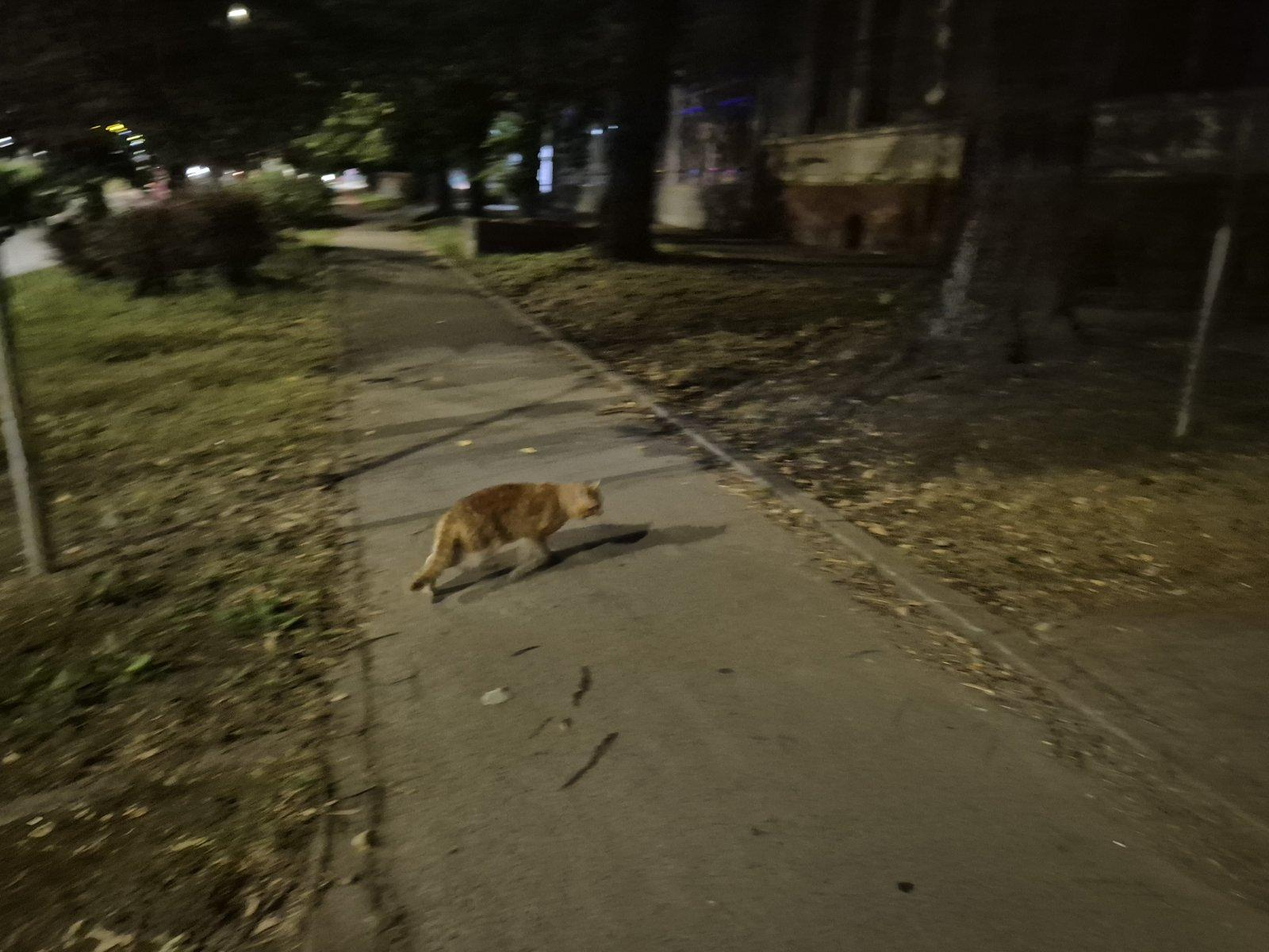macka: (410, 477, 607, 597)
